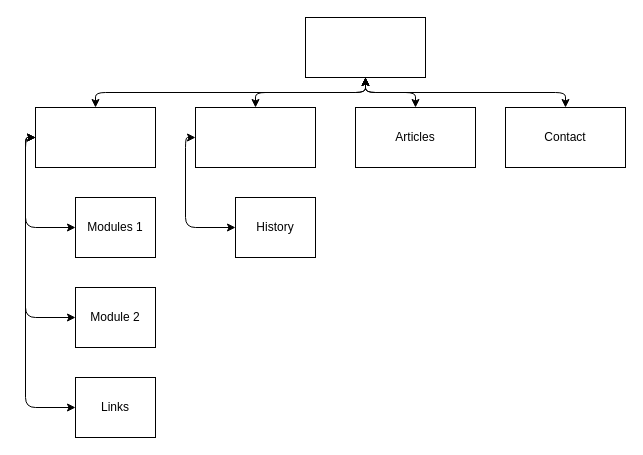
Some shapes in this 643 by 455 pixel diagram are drawn without their labels. The box of each missing label's shape, as (x1, y1, x2, y2) in pixels:
About us: (194, 106, 316, 168)
Home: (304, 16, 426, 78)
Training: (34, 106, 156, 168)
